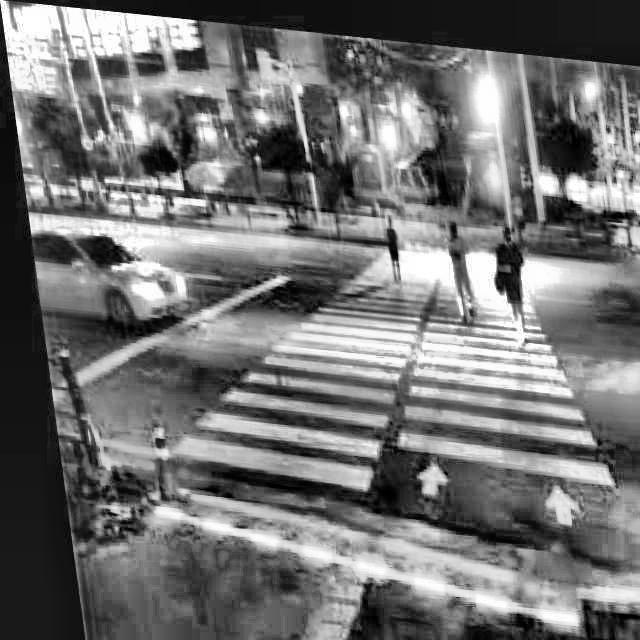semaforo pedestre: (455, 133, 531, 210)
